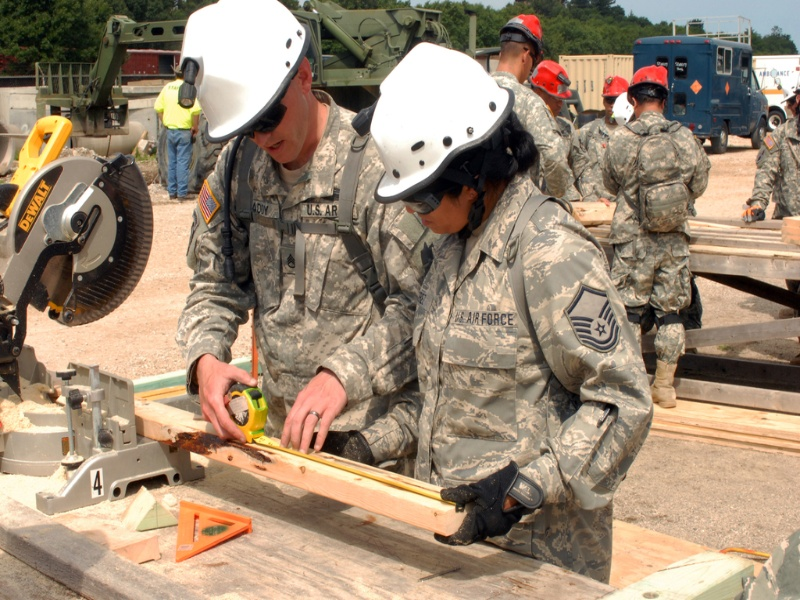helmet: (369, 43, 509, 198), (178, 1, 311, 144)
